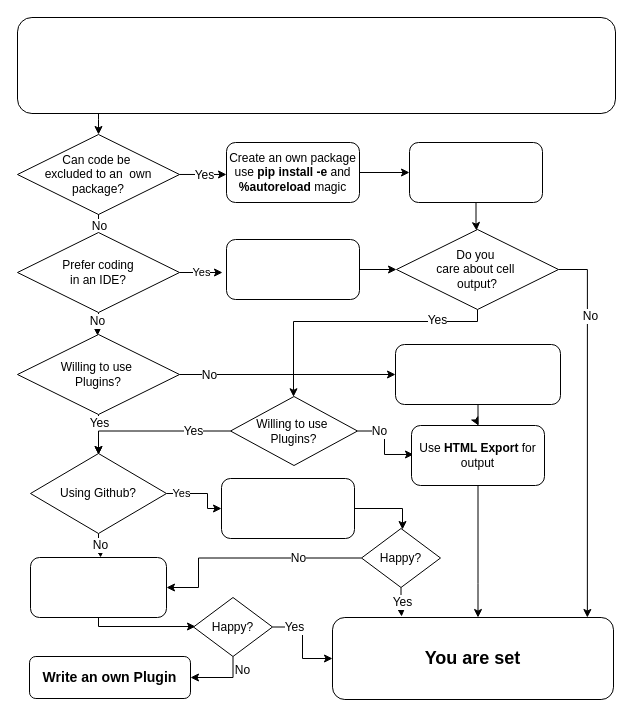
The diagram is 633 pixels wide and 717 high, and some of its shapes have lost their labels. Each missing label, with the centre of its shape:
"Check nbdime" belongs at [98,587].
"Check ReviewNB" belongs at [287,508].
"How to Version Control Notebooks?" belongs at [316,65].
"Use GIT pre-commit hook to ignore outputs and commit notebooks using git" belongs at [477,374].
"Use jupytext" belongs at [293,269].
"You now have ordinary python source files, so simply use git" belongs at [475,172].
